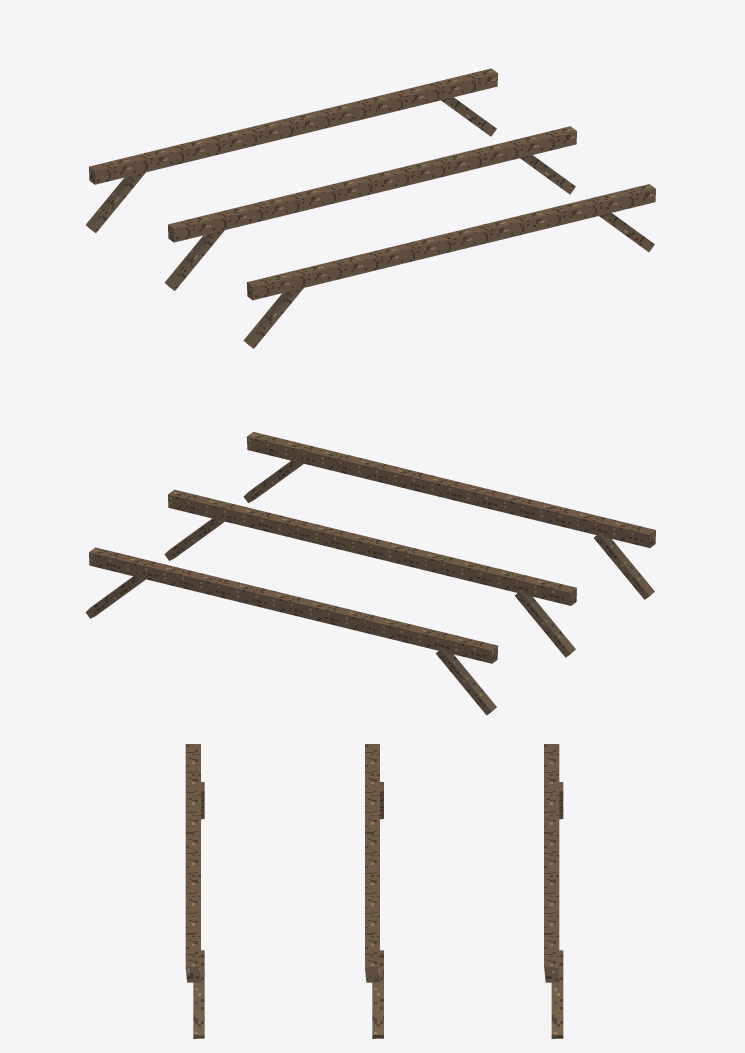
File: cst.ceiling__throne.glb
3 renders of one model, top to bottom at view 1: azimuth 30°, elevation 25°; view 2: azimuth 150°, elevation 25°; view 3: azimuth 270°, elevation 25°, orthographic. The views are drawn at different scales.
Visible parts, largest first — view 1: kit_ribs; view 2: kit_ribs; view 3: kit_ribs.
Boxes of the visible parts, <box> form: kit_ribs: <box>86,68,655,348</box>; kit_ribs: <box>85,432,655,715</box>; kit_ribs: <box>185,744,563,1038</box>.
Size of the model in its own units: 11.16 by 1.71 by 15.
Materials: 2 (2 with a texture image).
